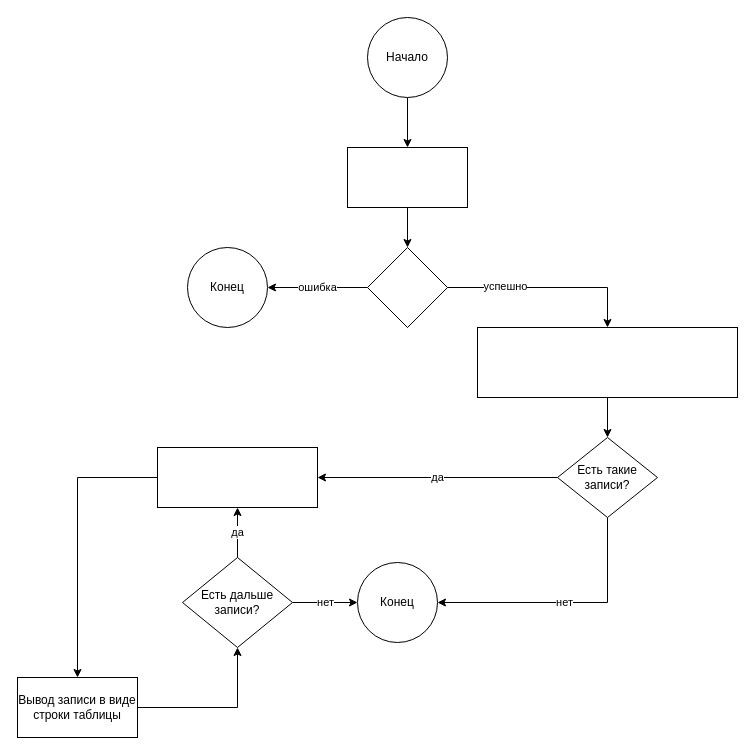
Some shapes in this 755 by 755 pixel diagram are drawn without their labels. Here are the shapes that lost their labels. From the top down, the centre of each, then its label:
At pixel 407 177: "Установка соединения".
At pixel 607 362: "Получить из БД записи из news для данного пользователя".
At pixel 237 477: "взять запись".
